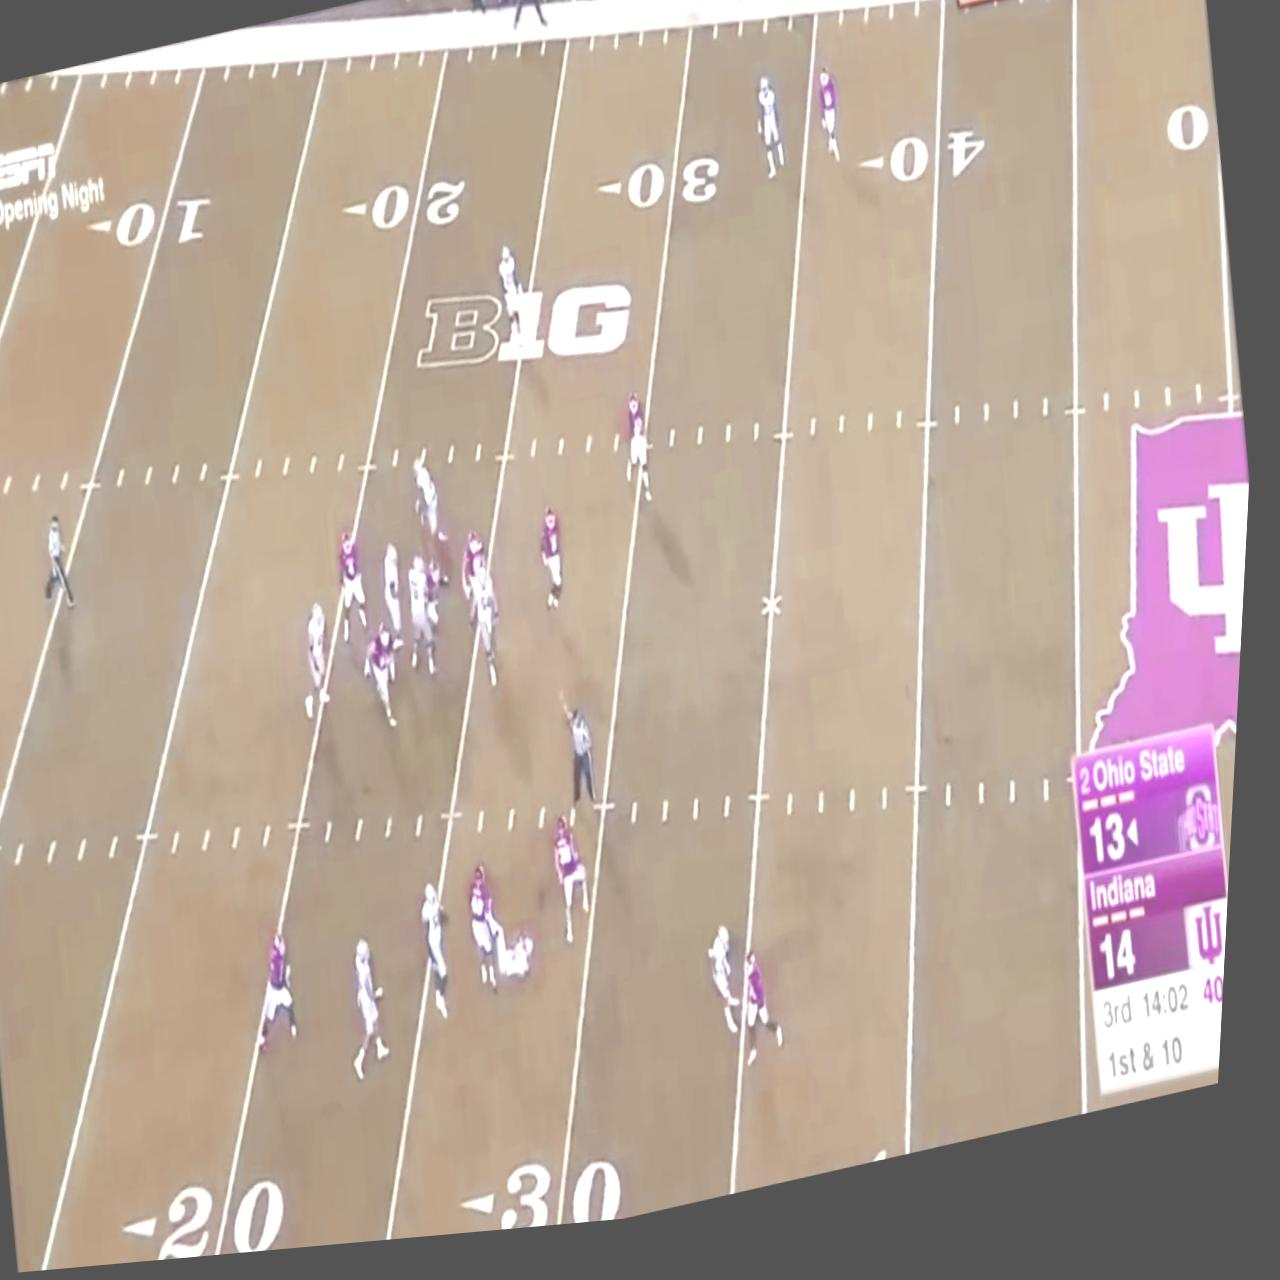10L: (80, 182, 220, 273)
20L: (129, 1171, 307, 1267), (339, 179, 472, 257)
30L: (469, 1152, 641, 1244), (598, 159, 728, 239)
40L: (856, 136, 992, 218)
